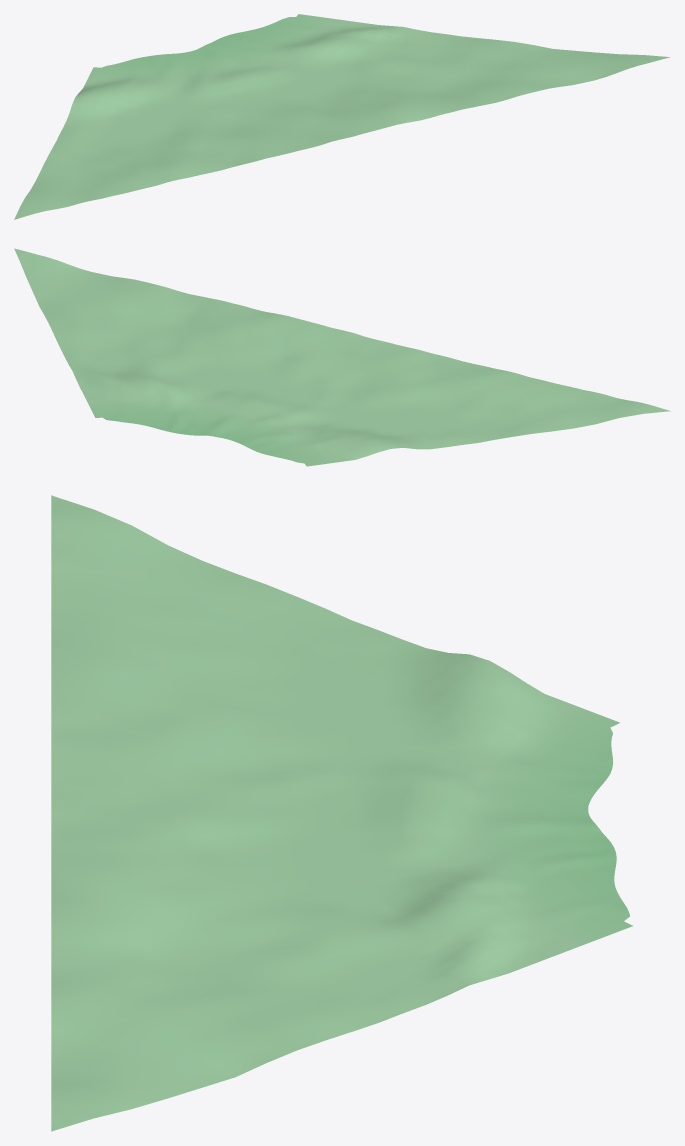
Rendered from terrain_menu_far.fbx.
3 renders of one model, top to bottom at view 1: azimuth 30°, elevation 25°; view 2: azimuth 150°, elevation 25°; view 3: azimuth 270°, elevation 25°, orthographic. The views are drawn at different scales.
Visible parts, largest first — view 1: terrain_menu_far; view 2: terrain_menu_far; view 3: terrain_menu_far.
Boxes of the visible parts, x1,y1,x2,y2 form: terrain_menu_far: (14, 14, 669, 219); terrain_menu_far: (14, 248, 670, 466); terrain_menu_far: (51, 495, 632, 1131).
Size of the model in its own units: 407 by 4.83 by 156.
